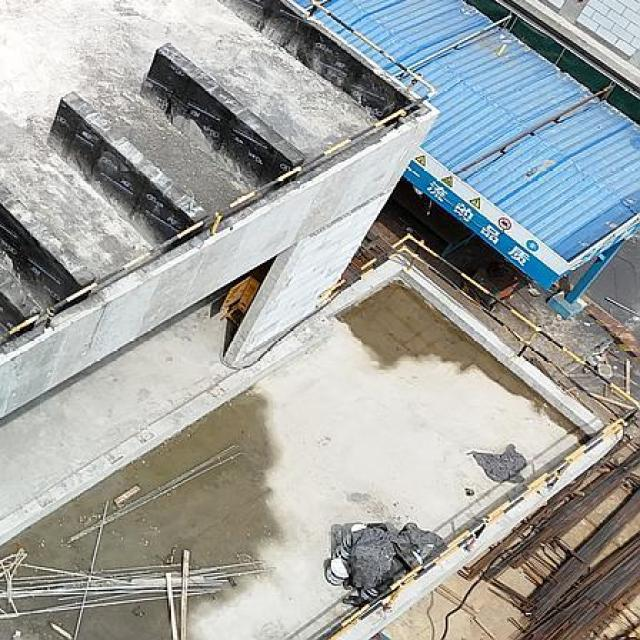edge_guardrail: (0, 0, 437, 343), (315, 228, 640, 640)
